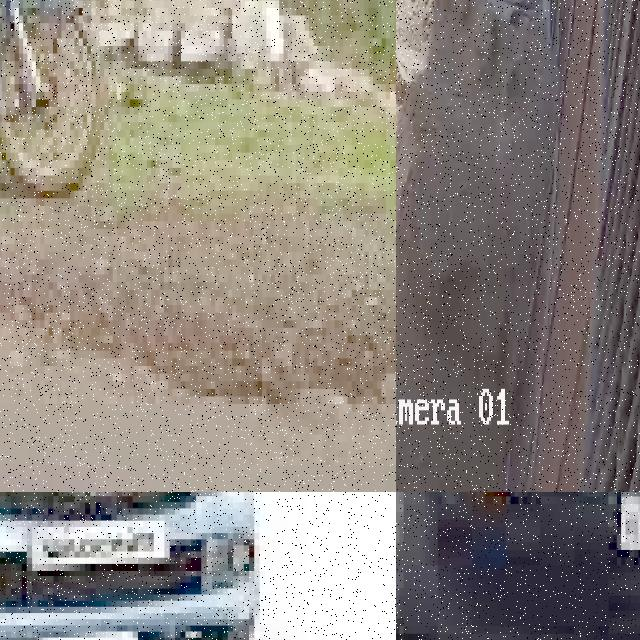bike: (0, 0, 117, 221)
car: (0, 492, 270, 640), (396, 492, 640, 633), (0, 588, 396, 640)
